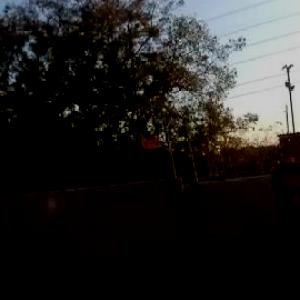follow: (249, 150, 300, 299)
